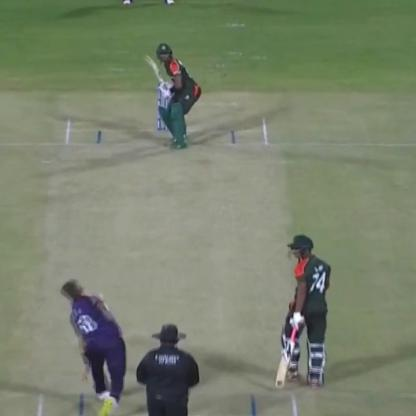bat: (274, 314, 300, 394), (138, 45, 172, 102)
pitch: (35, 104, 302, 415)
